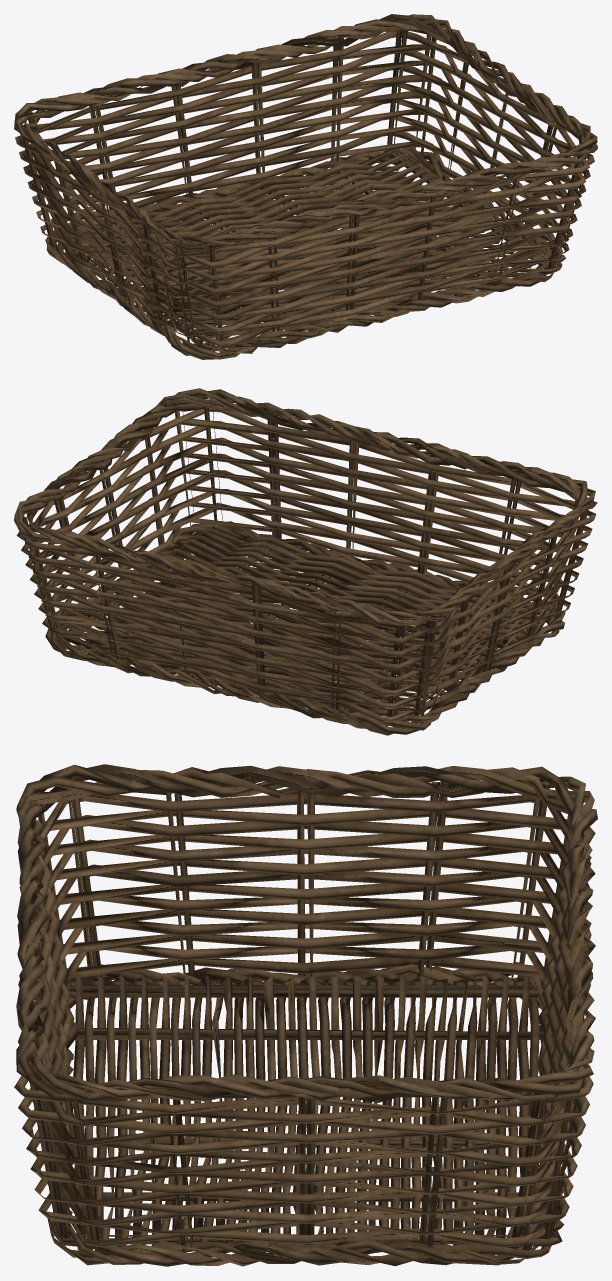
Rendered from basket.glb.
3 renders of one model, top to bottom at view 1: azimuth 30°, elevation 25°; view 2: azimuth 150°, elevation 25°; view 3: azimuth 270°, elevation 25°, orthographic. The views are drawn at different scales.
Parts seen in each view (by area): view 1: wicker_basket_01; view 2: wicker_basket_01; view 3: wicker_basket_01.
Boxes of the visible parts, x1,y1,x2,y2 form: wicker_basket_01: (14, 14, 597, 359); wicker_basket_01: (14, 388, 597, 735); wicker_basket_01: (14, 764, 597, 1266).
Size of the model in its own units: 0.383 by 0.1174 by 0.2939.
1 material, 1 textured.
